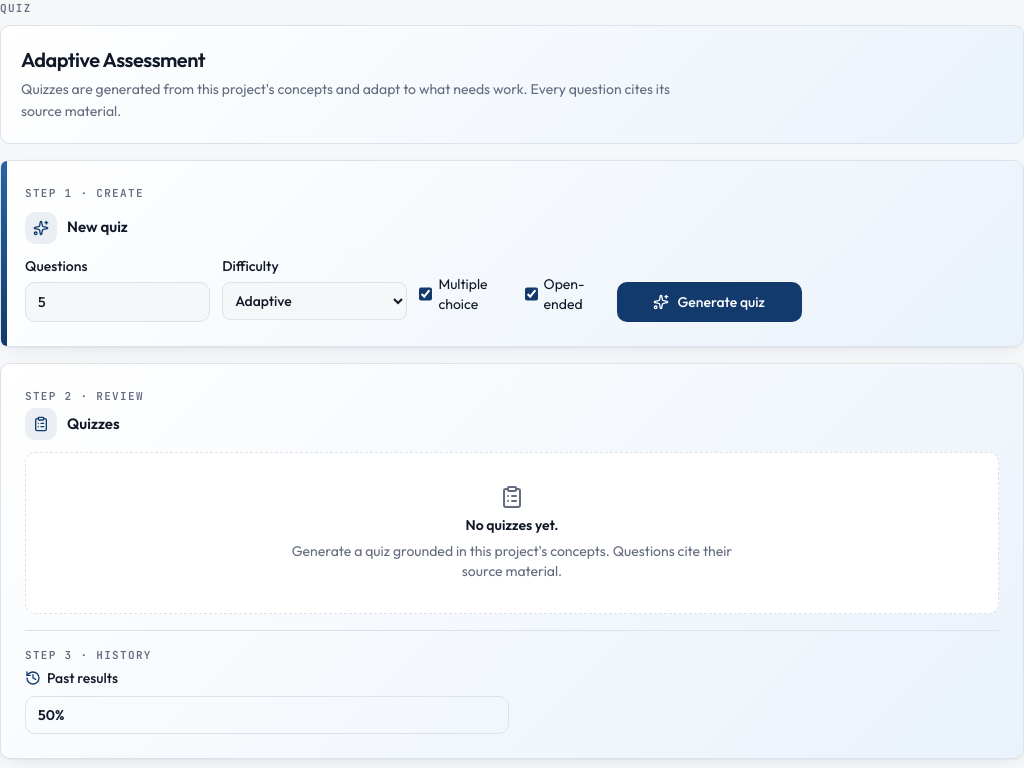
Scenario: QuizSection › opens a past result from history
This screenshot has width=1024, height=768.
expect the text "Past results" is shown: met, box [25,668,118,686]
Click the button "50%" at (51, 714), box [25,696,509,734]
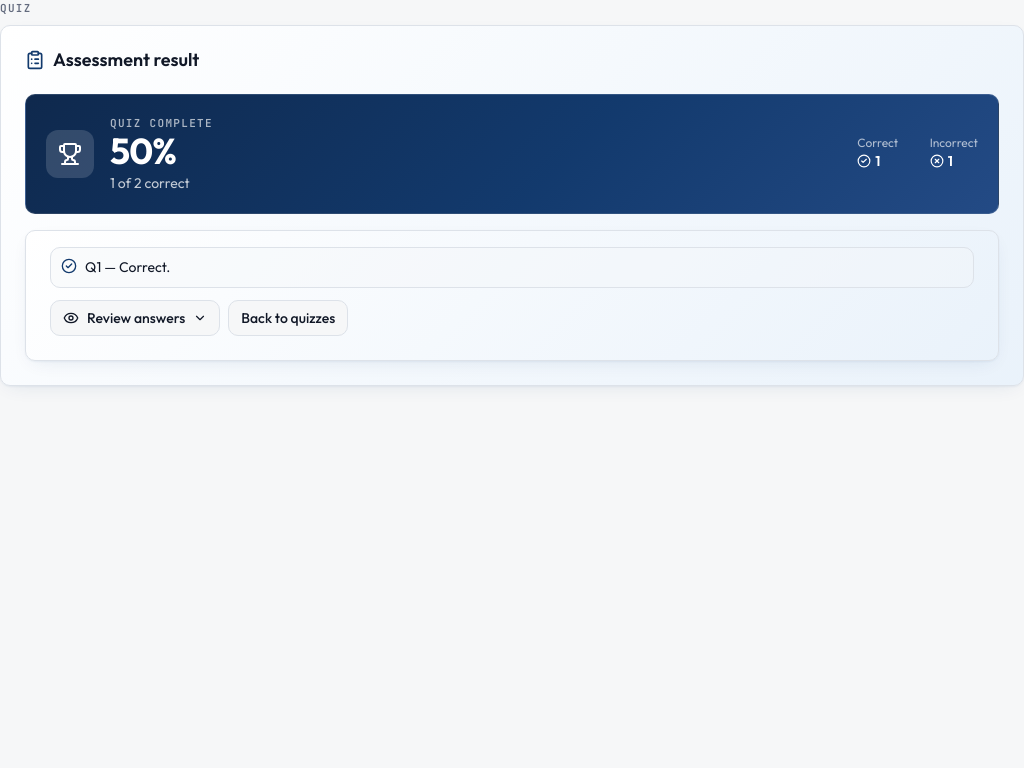
expect the text "50%" is shown: met, box [110,128,176,173]
expect the heading "Assessment result" is shown: met, box [25,48,199,70]
